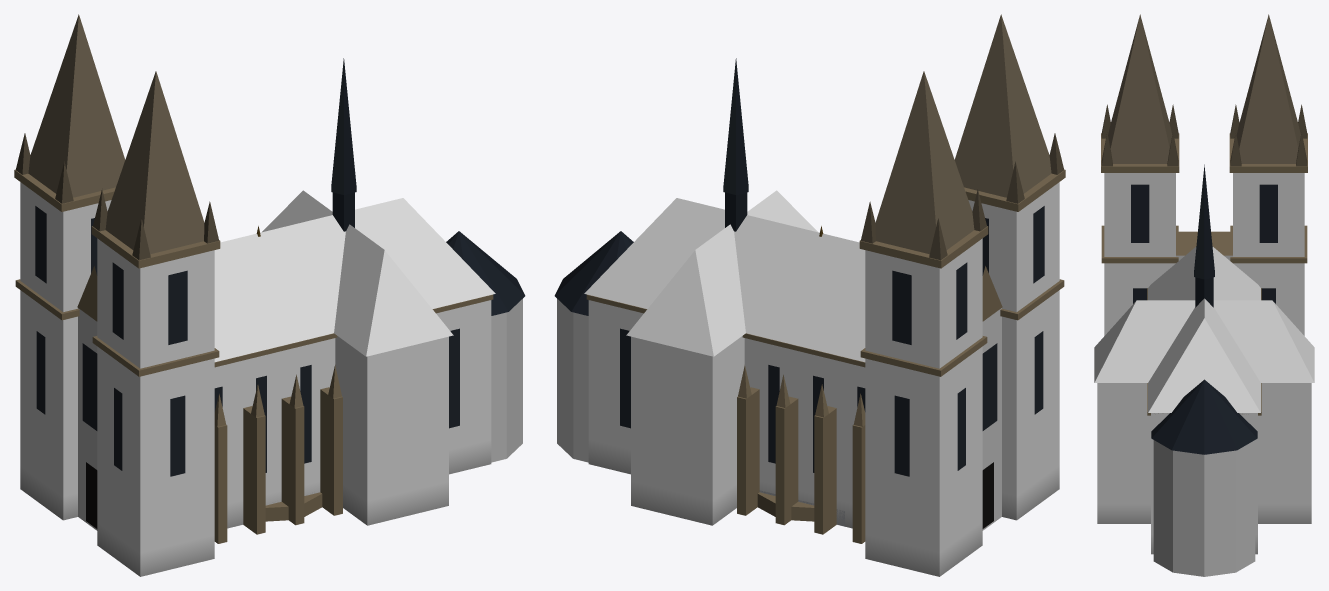
The model's file is cityprops.glb.
3 renders of one model, left to right at view 1: azimuth 30°, elevation 25°; view 2: azimuth 150°, elevation 25°; view 3: azimuth 270°, elevation 25°, orthographic. The views are drawn at different scales.
Visible parts, largest first — view 1: cathedral_lod0, fountain; view 2: cathedral_lod0, fountain; view 3: cathedral_lod0.
Boxes of the visible parts, box(x1,y1,x2,y2) form: cathedral_lod0: box(14, 14, 525, 576); fountain: box(265, 492, 322, 521); cathedral_lod0: box(554, 14, 1065, 576); fountain: box(757, 492, 814, 521); cathedral_lod0: box(1094, 14, 1314, 576).
Size of what is drawn, in the model's own units: 59.3 by 62 by 30.8.
